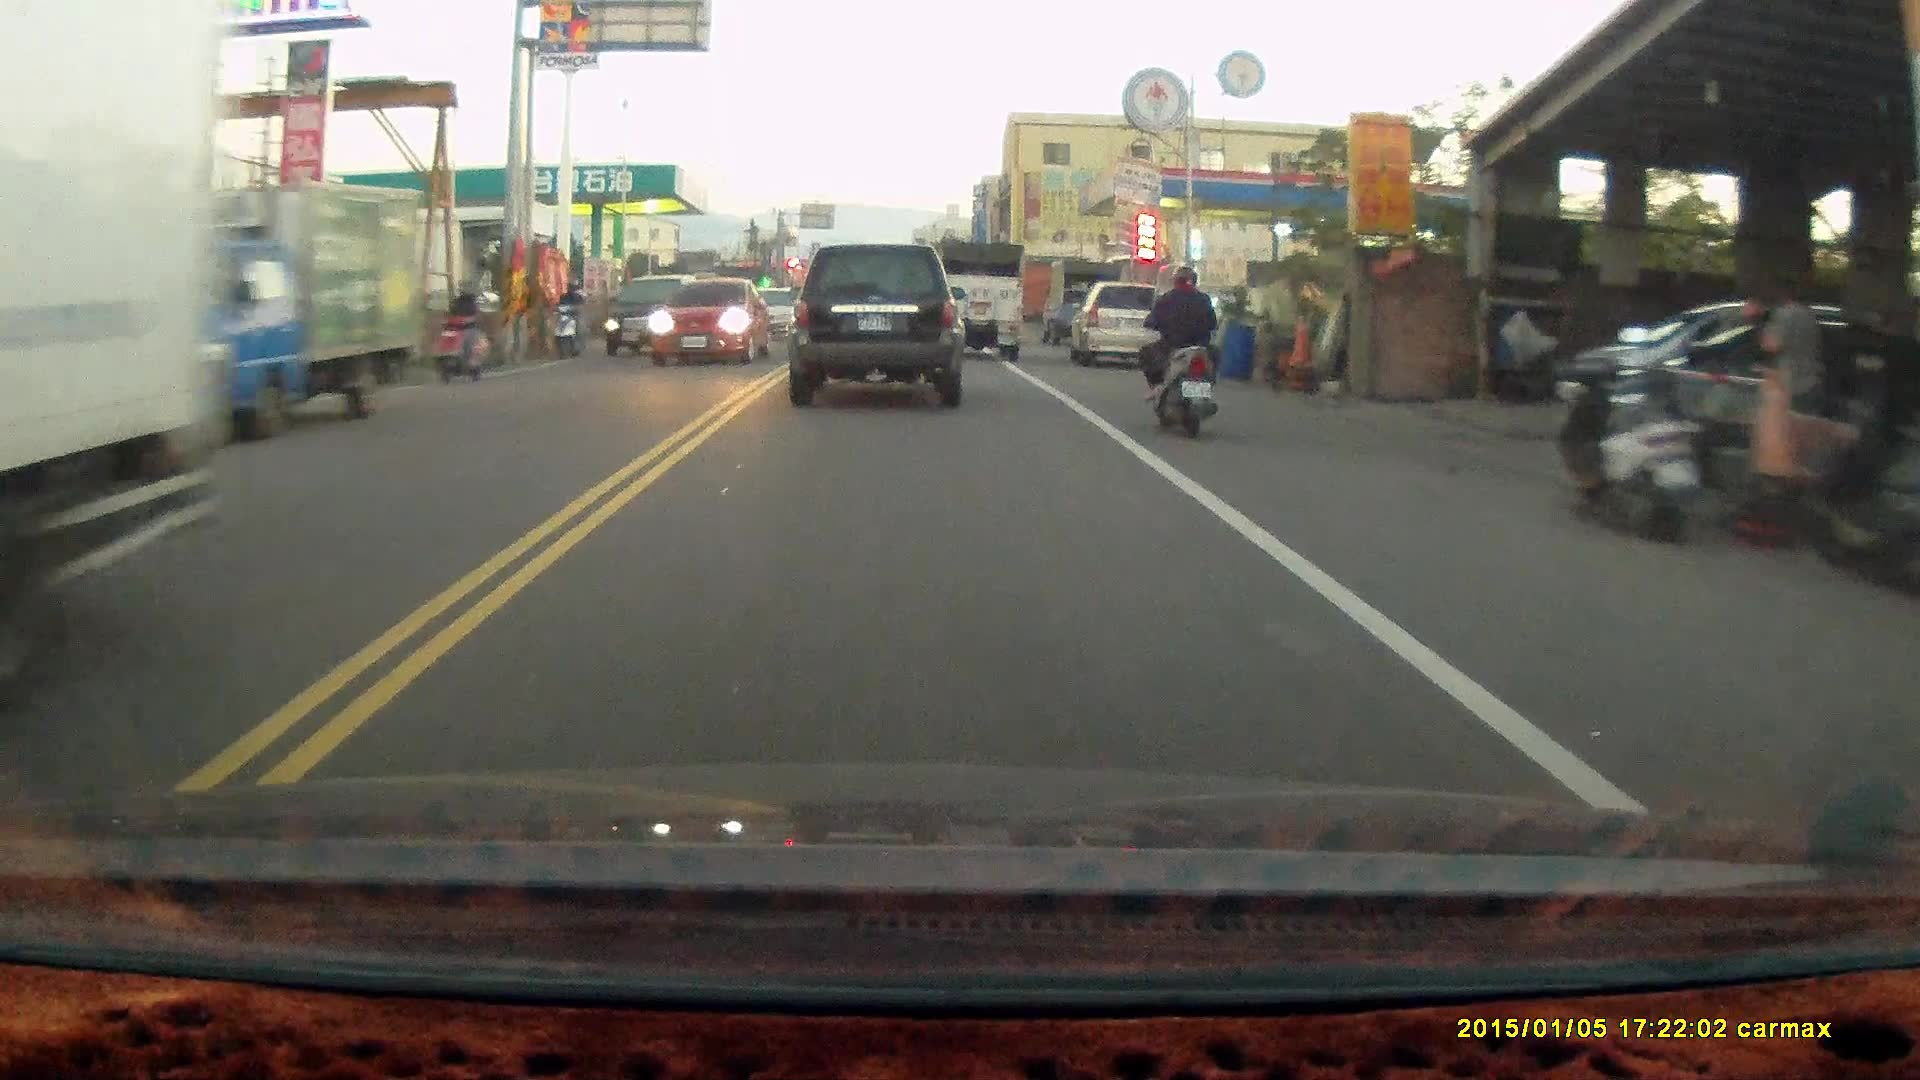pedestrian: (1760, 281, 1823, 441)
rider: (1139, 267, 1232, 445), (426, 279, 499, 382), (553, 281, 590, 359)
vehicle: (1, 11, 229, 644), (86, 176, 423, 449), (784, 243, 967, 411), (934, 241, 1027, 364), (653, 284, 780, 372), (1073, 284, 1176, 373), (605, 276, 703, 359)
